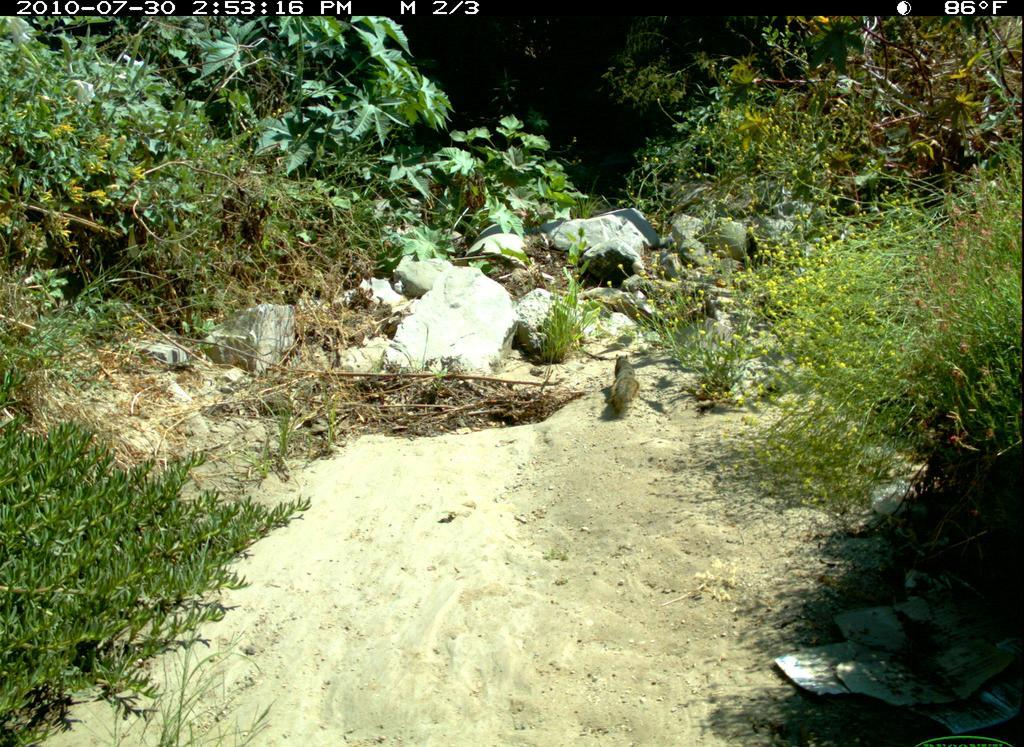squirrel: (601, 344, 646, 422)
